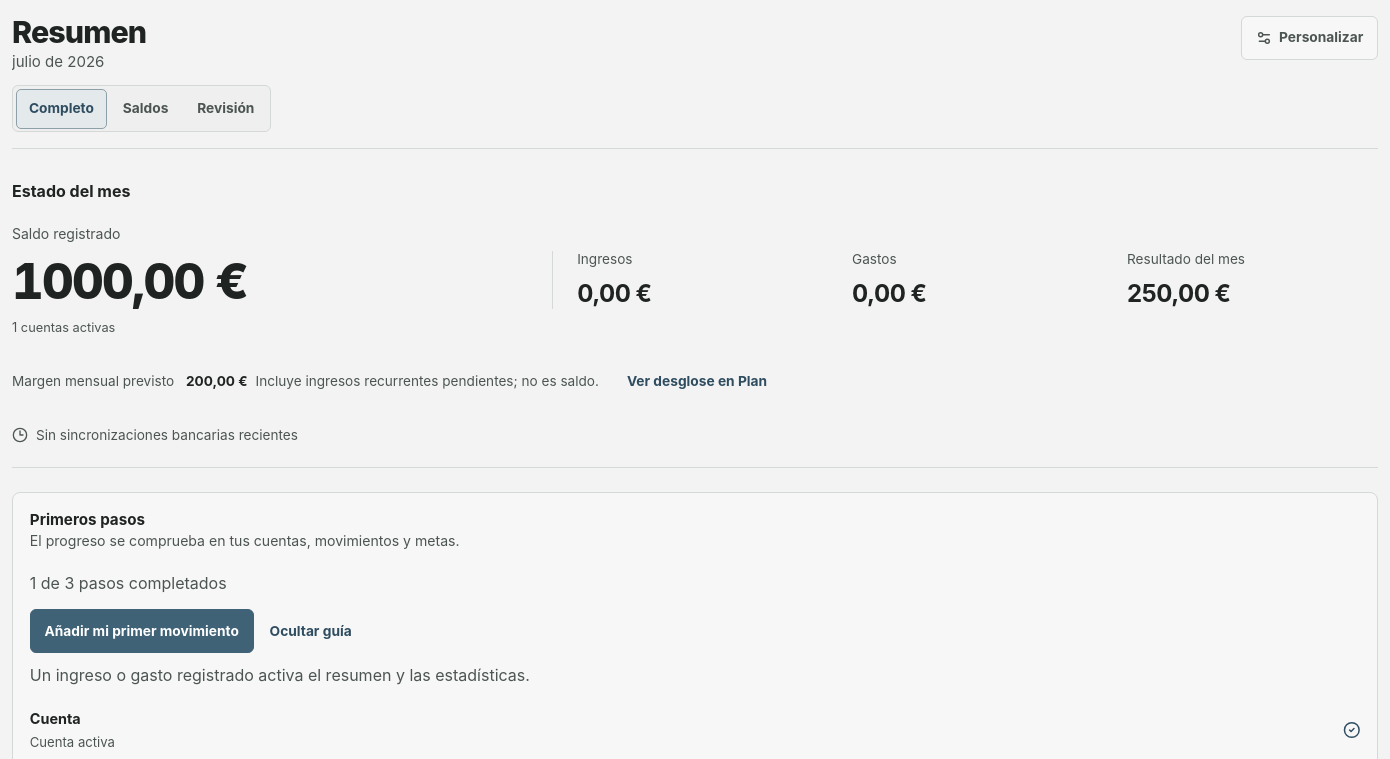
Test: dashboard architecture › persists guide dismissal through existing dashboard preferences
The width and height of the screenshot is (1390, 759).
Click the button "Ocultar guía" at (311, 632), box [266, 610, 356, 654]
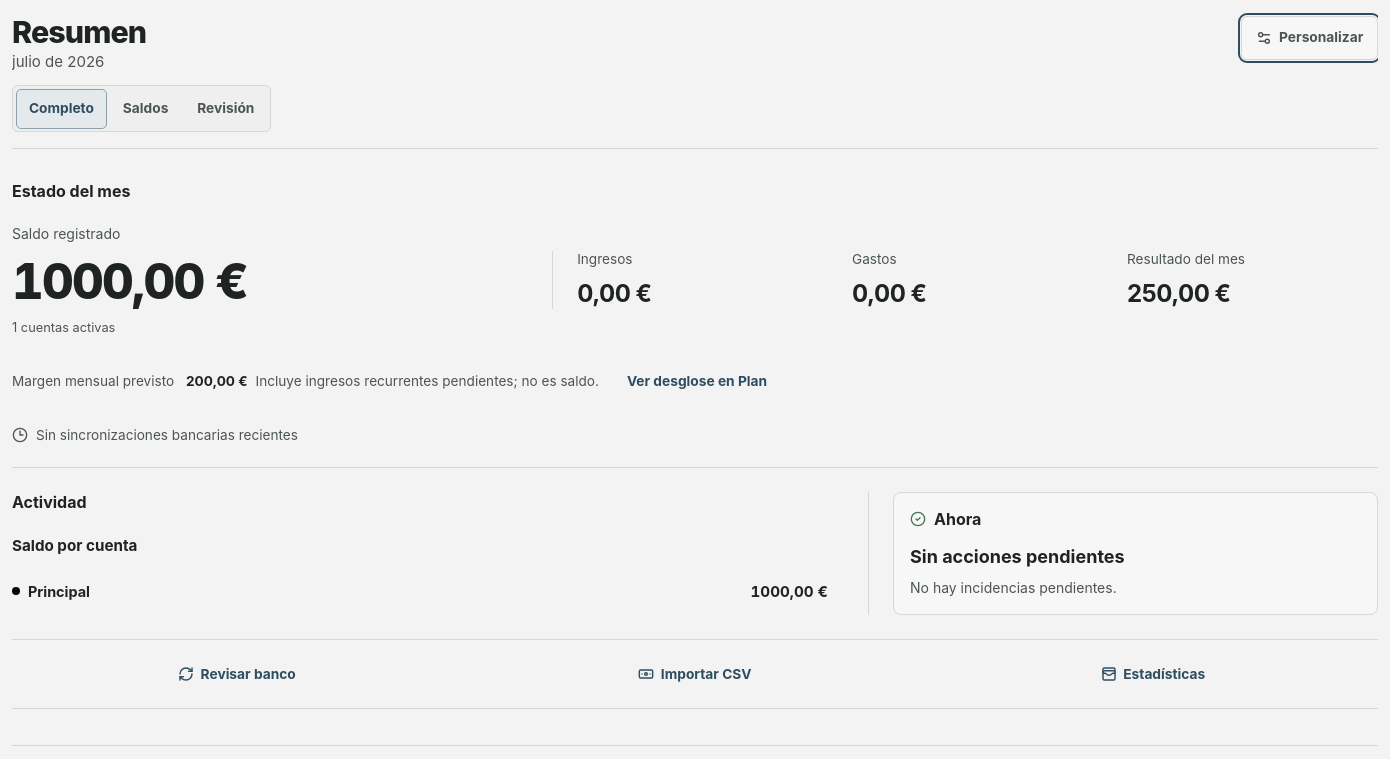
Now the heading "Primeros pasos" is gone
